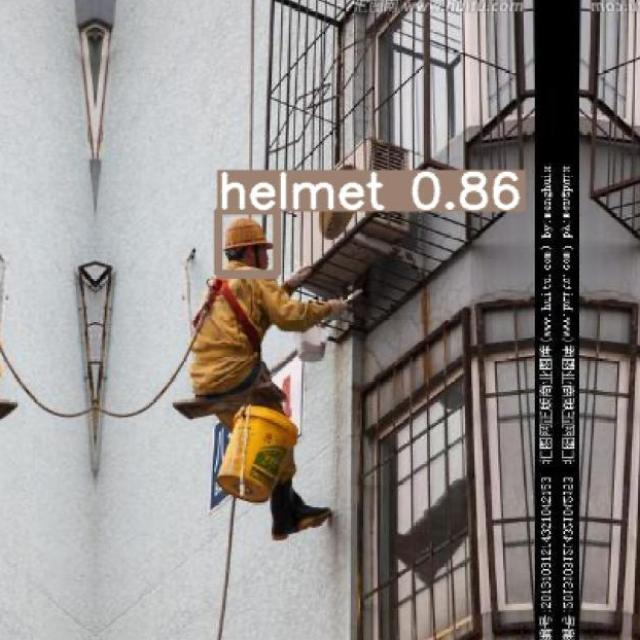helmet: (222, 217, 273, 251)
